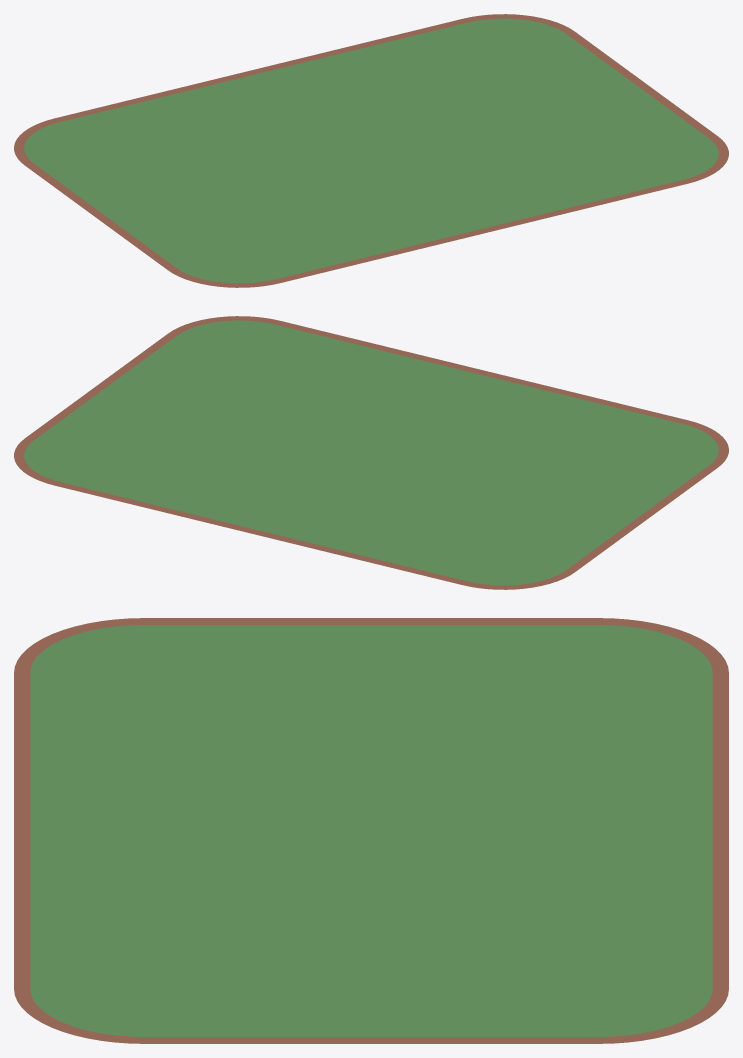
The model's file is SM_StadiumFloor.fbx.
The picture shows the model from 3 angles, top to bottom: view 1: azimuth 30°, elevation 25°; view 2: azimuth 150°, elevation 25°; view 3: azimuth 270°, elevation 25°; orthographic projection. The views are drawn at different scales.
Parts seen in each view (by area): view 1: SM_StadiumFloor; view 2: SM_StadiumFloor; view 3: SM_StadiumFloor.
Boxes of the visible parts, x1,y1,x2,y2 form: SM_StadiumFloor: (14,14,728,287); SM_StadiumFloor: (14,316,728,589); SM_StadiumFloor: (14,618,728,1043).
Size of the model in its own units: 124 by 0.01 by 88.
